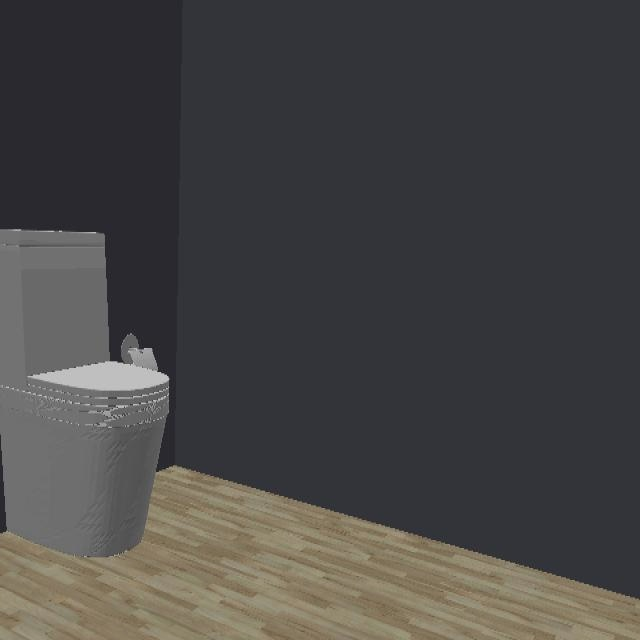toilet: (0, 229, 169, 556)
